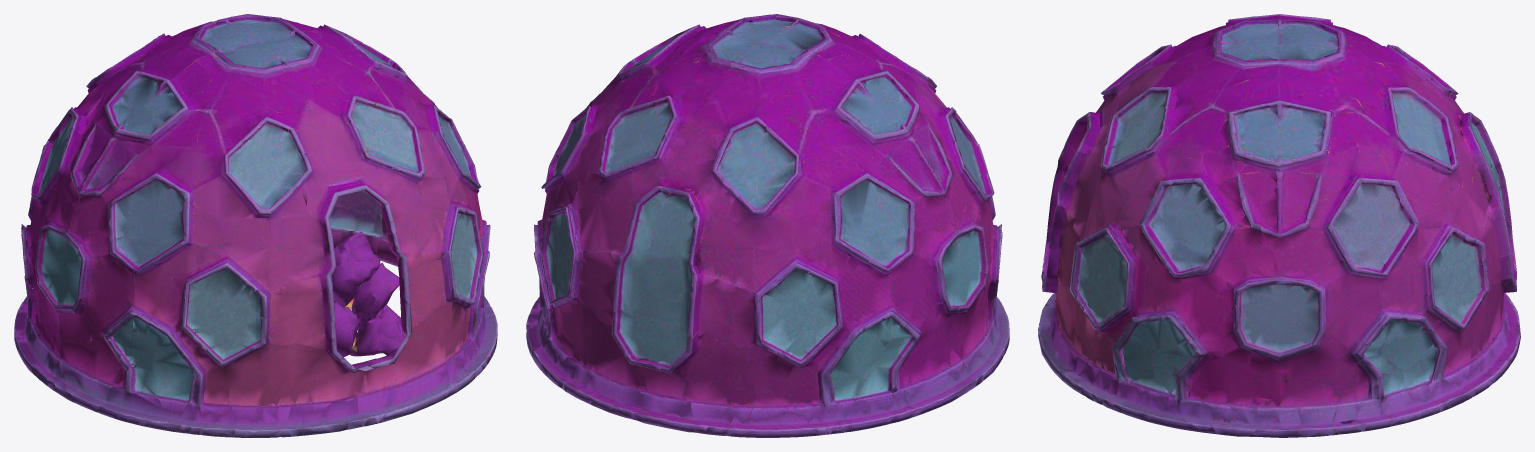
File: conservatory.glb
3 views of the same model, side by side, from view 1: azimuth 30°, elevation 25°; view 2: azimuth 150°, elevation 25°; view 3: azimuth 270°, elevation 25° (orthographic).
Visible parts, largest first — view 1: Mesh_0; view 2: Mesh_0; view 3: Mesh_0.
Part boxes in pixels (<box>): Mesh_0: <box>14,14,497,437</box>; Mesh_0: <box>526,14,1009,437</box>; Mesh_0: <box>1038,14,1520,437</box>.
Size of the model in its own units: 1.9 by 1.29 by 1.9.
Materials: 1 (1 with a texture image).
